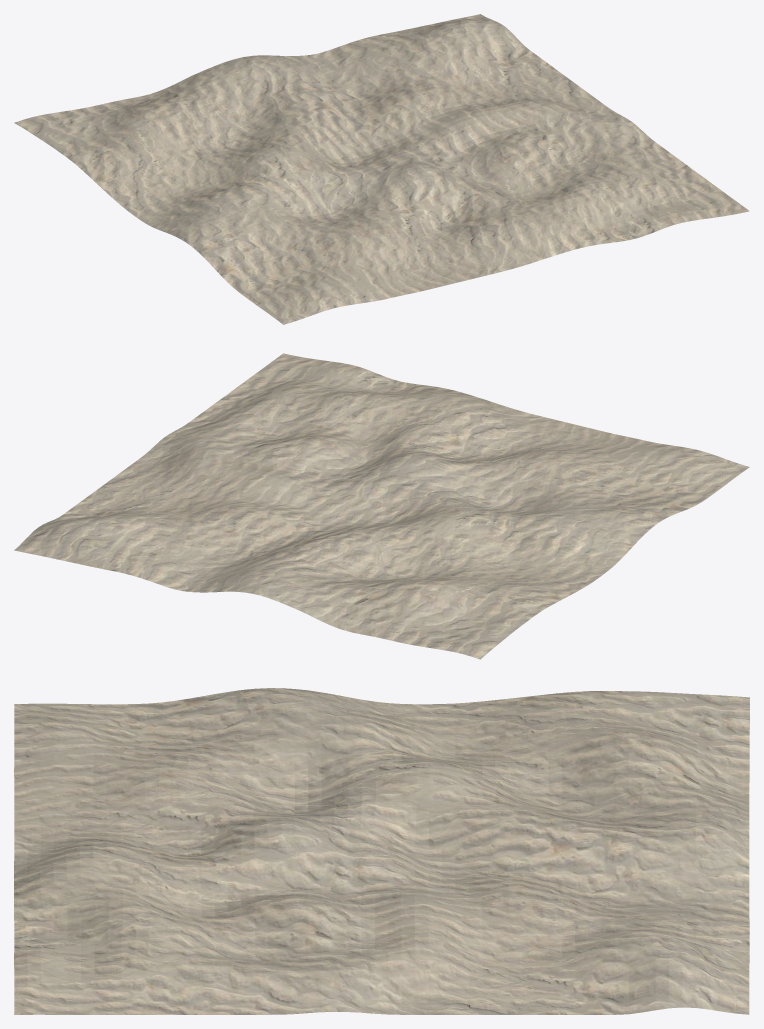
File: seafloor.gltf
The picture shows the model from 3 angles, top to bottom: view 1: azimuth 30°, elevation 25°; view 2: azimuth 150°, elevation 25°; view 3: azimuth 270°, elevation 25°; orthographic projection. The views are drawn at different scales.
Visible parts, largest first — view 1: Plane; view 2: Plane; view 3: Plane.
Boxes of the visible parts, bbox=[...] form: Plane: bbox=[14, 14, 749, 324]; Plane: bbox=[14, 353, 749, 659]; Plane: bbox=[14, 688, 749, 1014].
Bounding box in the file's own units: 20.05 × 0.9597 × 20.03.
Materials: 1 (1 with a texture image).
